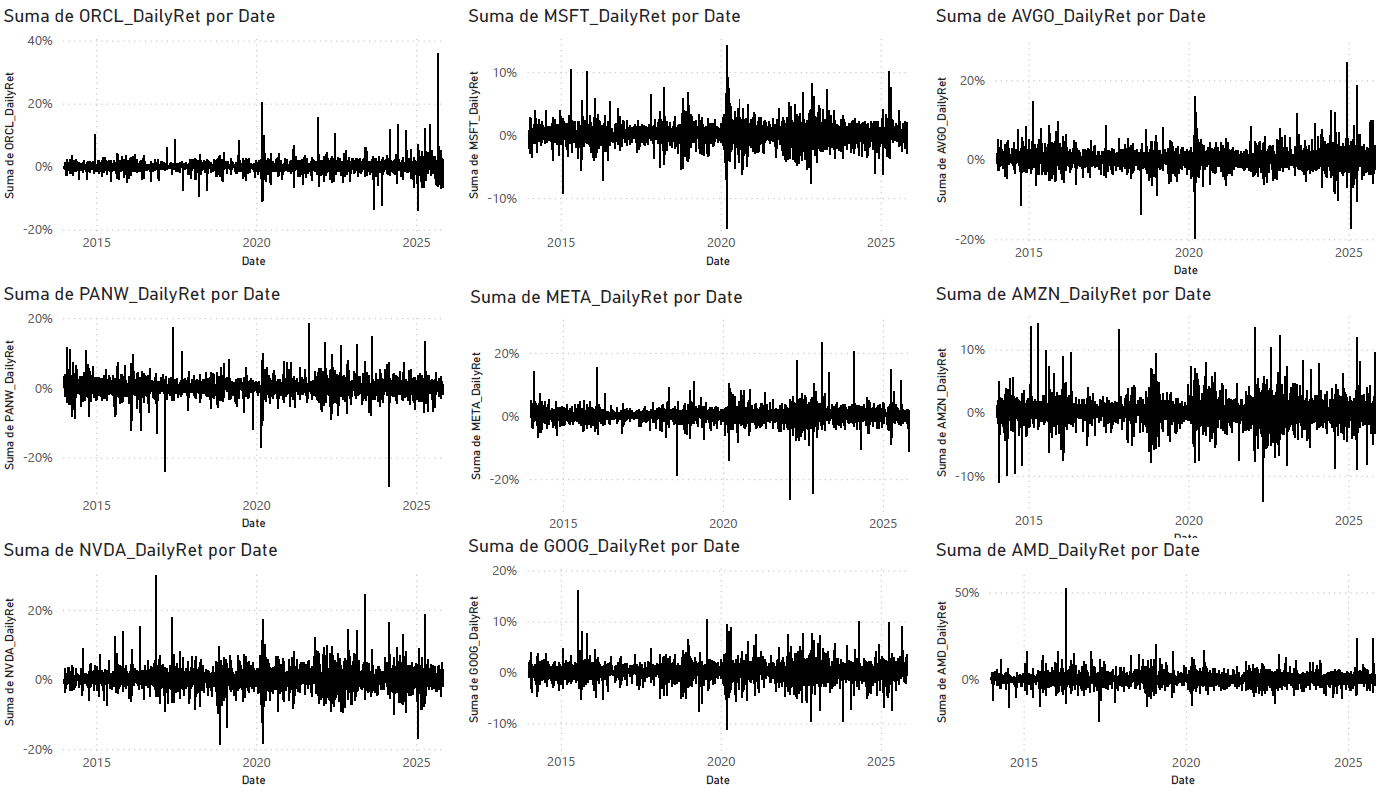

The page's visual inventory and layout, read from the dashboard file:
{"tool":"powerbi","page":{"name":"Daily ROCs Stocks","canvas":[1280,720],"ordinal":2},"visuals":[{"type":"clusteredColumnChart","fields":{"Y":["Sum(ORCL_Gold.ORCL_DailyRet)"],"Category":["ORCL_Gold.Date"]},"box":[0,0,426.7,245.1],"z":0},{"type":"clusteredColumnChart","fields":{"Y":["Sum(PANW_Gold.PANW_DailyRet)"],"Category":["PANW_Gold.Date"]},"box":[0,253.8,426.7,231.4],"z":1000},{"type":"clusteredColumnChart","fields":{"Category":["NVDA_Gold.Date"],"Y":["Sum(NVDA_Gold.NVDA_DailyRet)"]},"box":[0,488.9,426.7,231.4],"z":2000},{"type":"clusteredColumnChart","fields":{"Y":["Sum(MSFT_Gold.MSFT_DailyRet)"],"Category":["MSFT_Gold.Date"]},"box":[425.4,0,426.7,245.1],"z":3000},{"type":"clusteredColumnChart","fields":{"Y":["Sum(AVGO_Gold.AVGO_DailyRet)"],"Category":["AVGO_Gold.Date"]},"box":[853.4,0,426.7,253.8],"z":4000},{"type":"clusteredColumnChart","fields":{"Y":["Sum(META_Gold.META_DailyRet)"],"Category":["META_Gold.Date"]},"box":[426.7,257.5,426.7,245.1],"z":6000},{"type":"clusteredColumnChart","fields":{"Y":["Sum(AMZN_Gold.AMZN_DailyRet)"],"Category":["AMZN_Gold.Date"]},"box":[853.4,253.8,426.7,245.1],"z":7000},{"type":"clusteredColumnChart","fields":{"Y":["Sum(AMD_Gold.AMD_DailyRet)"],"Category":["AMD_Gold.Date"]},"box":[853.4,488.9,426.7,231.4],"z":9000},{"type":"clusteredColumnChart","fields":{"Y":["Sum(GOOG_Gold.GOOG_DailyRet)"],"Category":["GOOG_Gold.Date"]},"box":[425.4,485.1,426.7,235.1],"z":10000}]}

Visuals, with their boxes in screenshot pixels (x1, y1, x2, y2), scaled from the page's 1280x720 canvas onto the 1391x795 screenshot:
clusteredColumnChart - Sum(ORCL_Gold.ORCL_DailyRet) x ORCL_Gold.Date: (left=0, top=0, right=464, bottom=271)
clusteredColumnChart - Sum(PANW_Gold.PANW_DailyRet) x PANW_Gold.Date: (left=0, top=280, right=464, bottom=536)
clusteredColumnChart - NVDA_Gold.Date x Sum(NVDA_Gold.NVDA_DailyRet): (left=0, top=540, right=464, bottom=794)
clusteredColumnChart - Sum(MSFT_Gold.MSFT_DailyRet) x MSFT_Gold.Date: (left=462, top=0, right=926, bottom=271)
clusteredColumnChart - Sum(AVGO_Gold.AVGO_DailyRet) x AVGO_Gold.Date: (left=927, top=0, right=1390, bottom=280)
clusteredColumnChart - Sum(META_Gold.META_DailyRet) x META_Gold.Date: (left=464, top=284, right=927, bottom=555)
clusteredColumnChart - Sum(AMZN_Gold.AMZN_DailyRet) x AMZN_Gold.Date: (left=927, top=280, right=1390, bottom=551)
clusteredColumnChart - Sum(AMD_Gold.AMD_DailyRet) x AMD_Gold.Date: (left=927, top=540, right=1390, bottom=794)
clusteredColumnChart - Sum(GOOG_Gold.GOOG_DailyRet) x GOOG_Gold.Date: (left=462, top=536, right=926, bottom=794)
